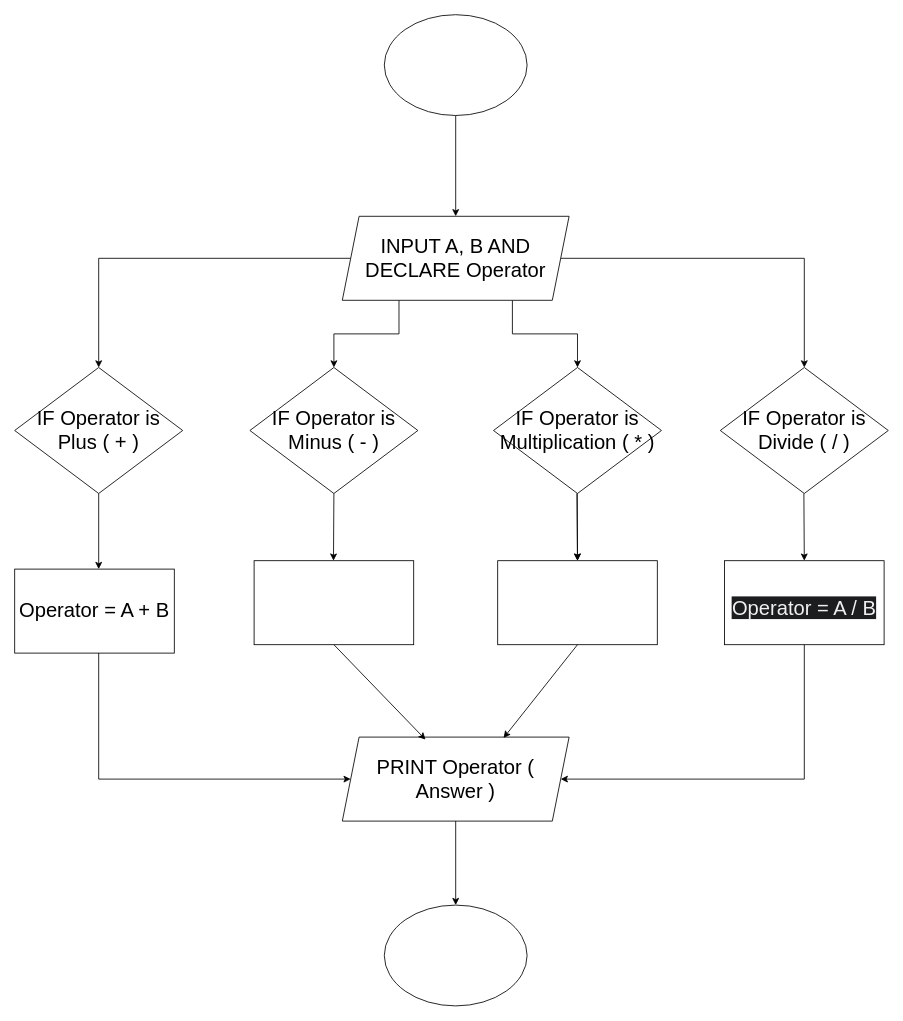
Some shapes in this 903 by 1021 pixel diagram are drawn without their labels. Each missing label, with the centre of its shape:
"END" belongs at pixel 455 955.
"Operator = A * B" belongs at pixel 577 602.
"Operator = A - B" belongs at pixel 333 602.
"START" belongs at pixel 455 65.
